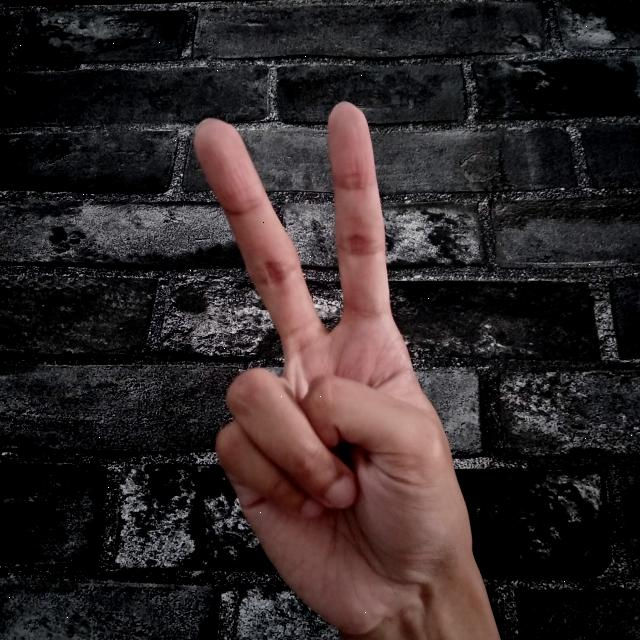V: (185, 98, 508, 640)
